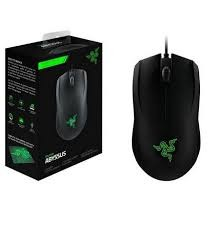mouse: (132, 53, 203, 180)
